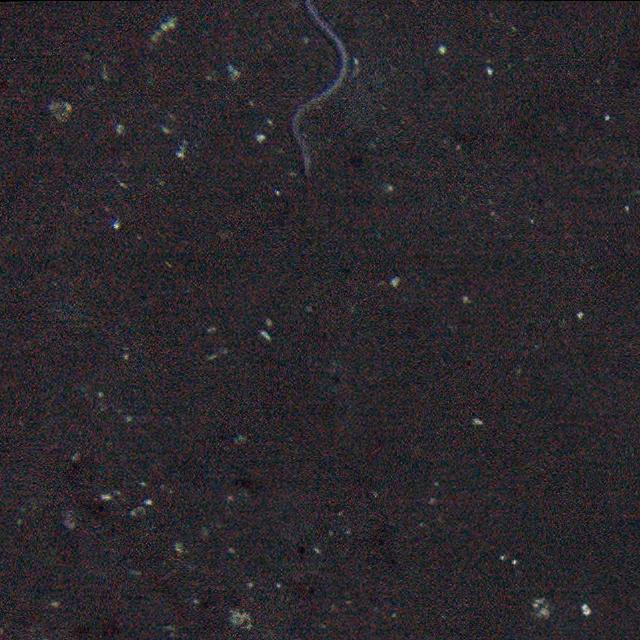eel: (292, 0, 349, 178)
